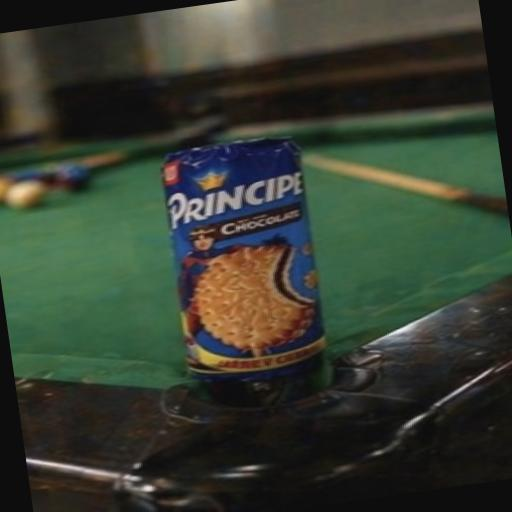prince: (0, 17, 427, 504)
